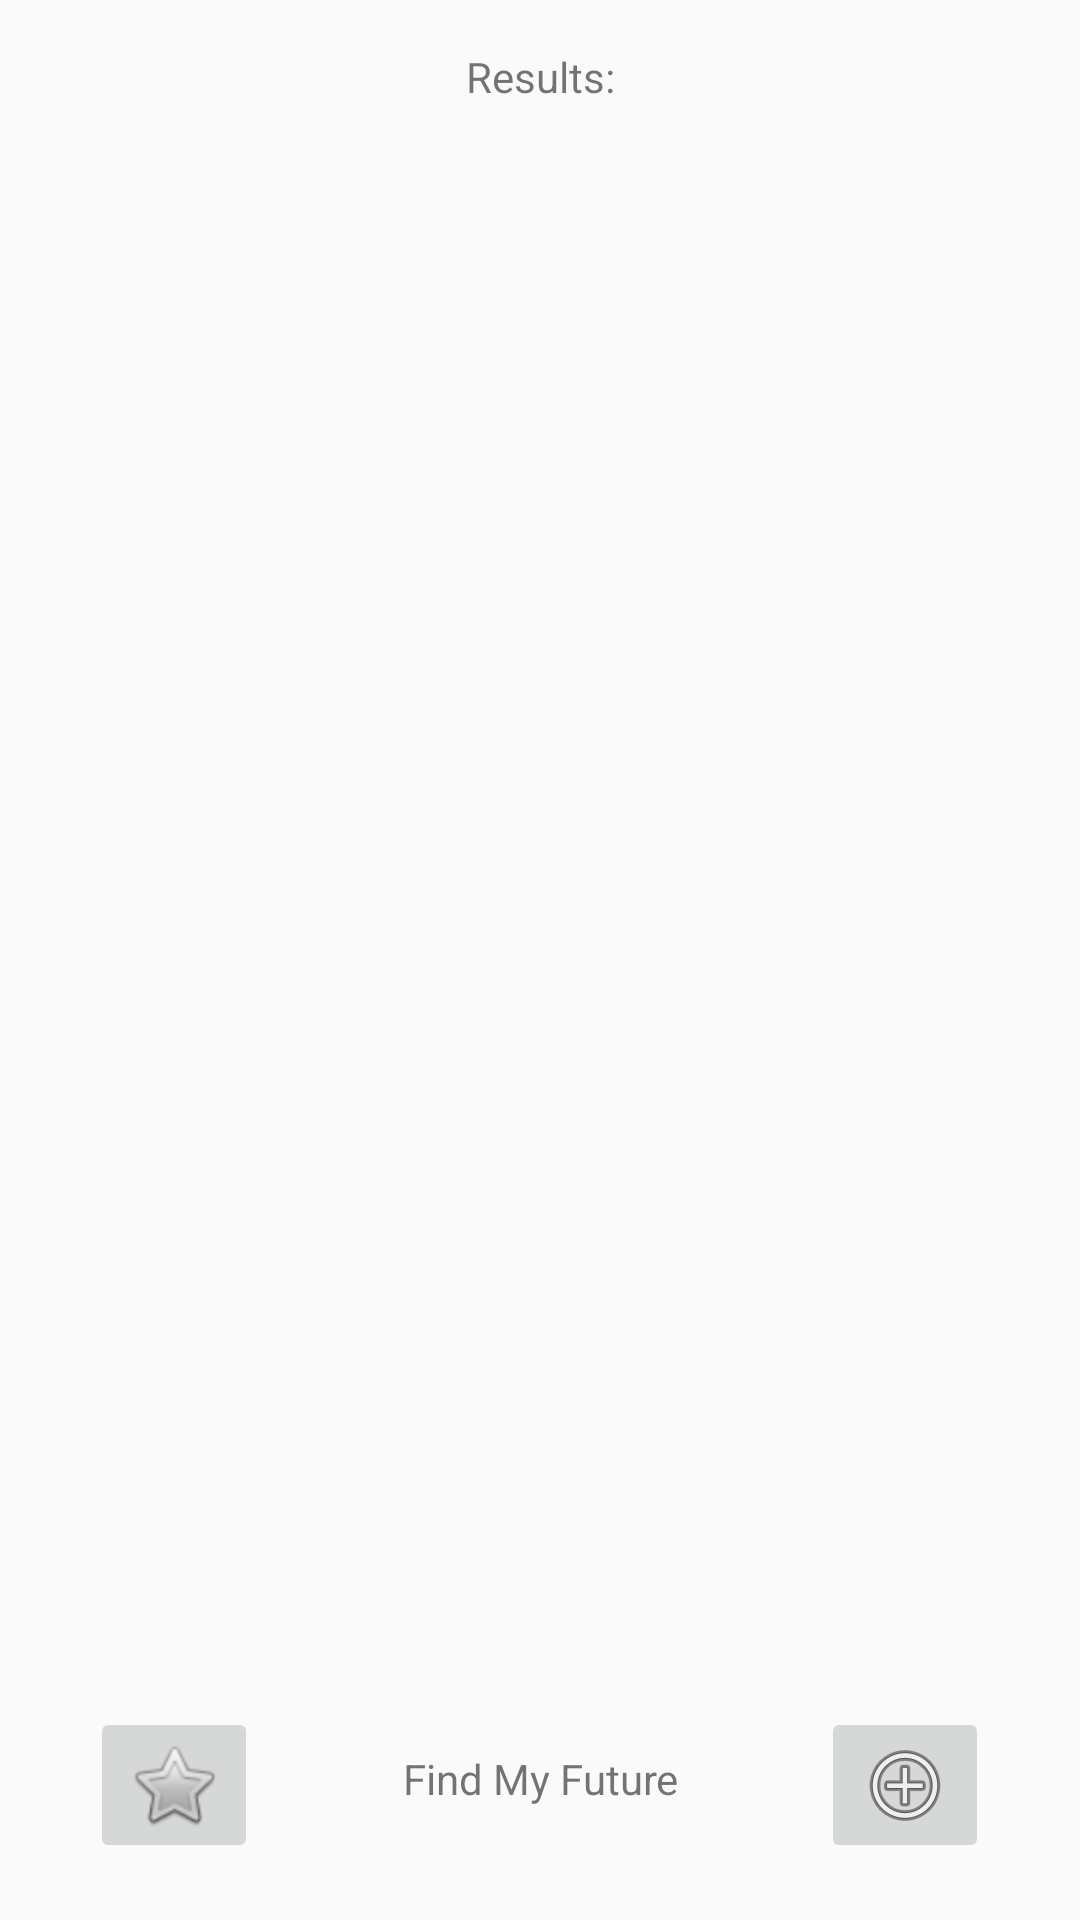

Icons on this 1080x1920 Android screen, each with the point to tap as (x,y):
add: (905,1785)
star: (174,1785)
